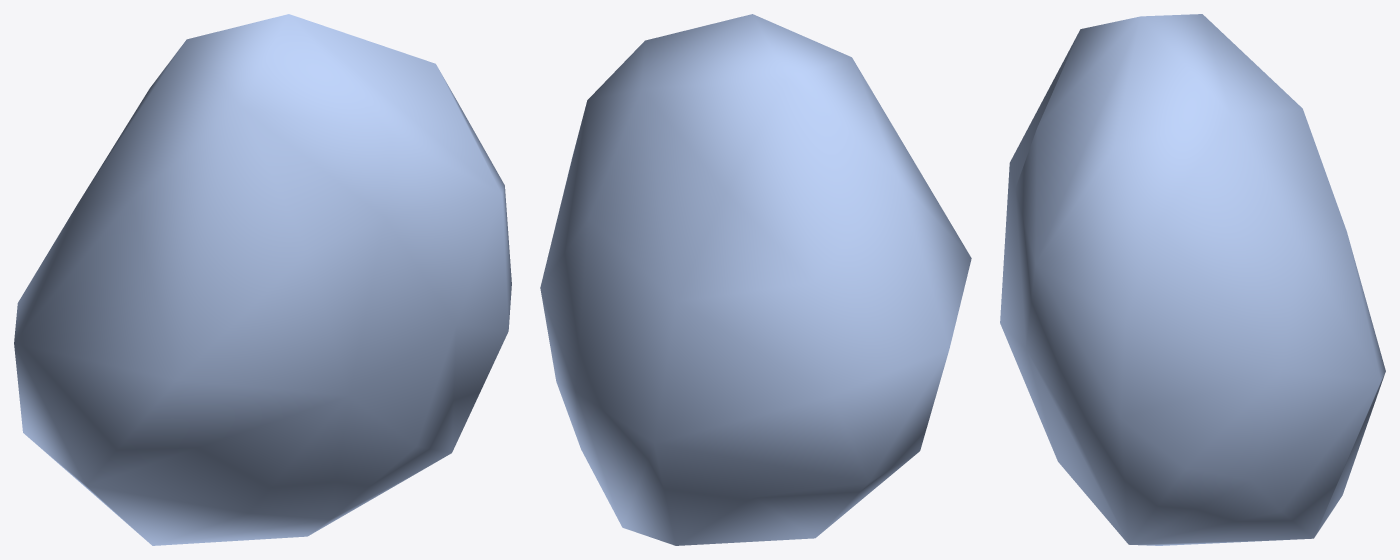
3 renders of one model, left to right at view 1: azimuth 30°, elevation 25°; view 2: azimuth 150°, elevation 25°; view 3: azimuth 270°, elevation 25°, orthographic. The views are drawn at different scales.
Visible parts, largest first — view 1: Object52; view 2: Object52; view 3: Object52.
Boxes of the visible parts, box(x1,y1,x2,y2) form: Object52: box(14, 14, 511, 545); Object52: box(540, 14, 971, 545); Object52: box(1000, 14, 1385, 545).
Bounding box in the file's own units: 27524 × 30736 × 20821.
